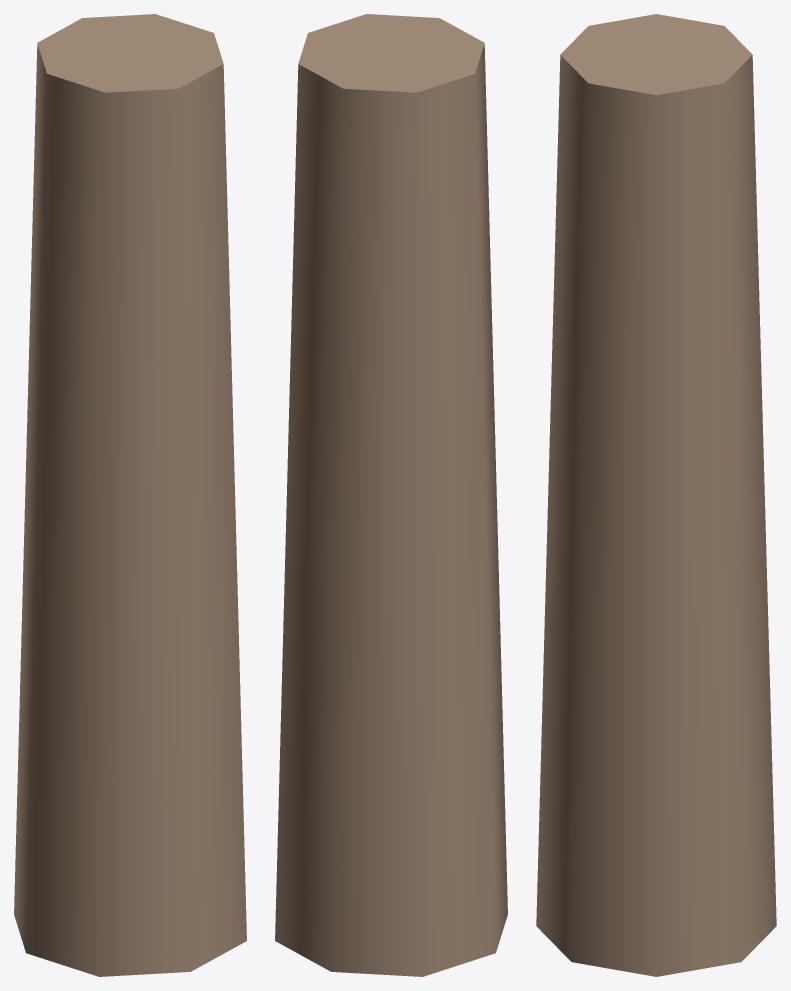
Rendered from mooring-post.gltf.
The picture shows the model from 3 angles, left to right: view 1: azimuth 30°, elevation 25°; view 2: azimuth 150°, elevation 25°; view 3: azimuth 270°, elevation 25°; orthographic projection.
Parts seen in each view (by area): view 1: Post; view 2: Post; view 3: Post.
Boxes of the visible parts, x1,y1,x2,y2 form: Post: [14, 14, 246, 976]; Post: [275, 14, 507, 976]; Post: [536, 14, 776, 976].
Bounding box in the file's own units: 0.4 × 1.6 × 0.4.
